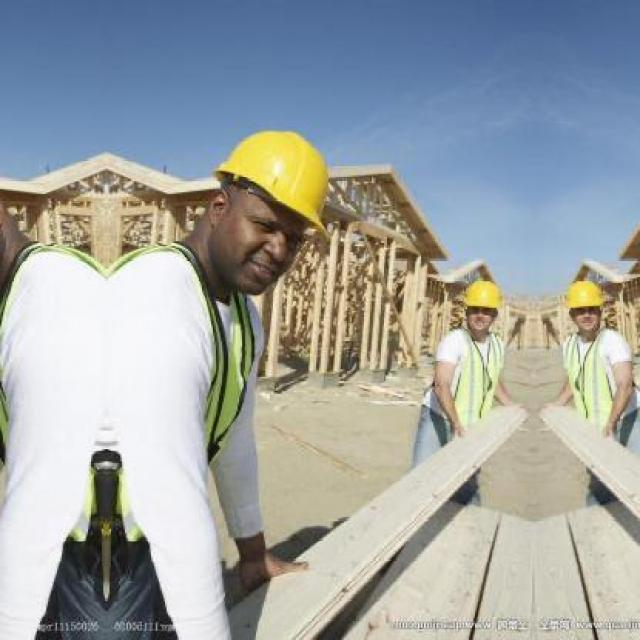Reflective-Jacket: (85, 237, 285, 572), (0, 231, 108, 563), (421, 324, 514, 430), (556, 326, 640, 437), (72, 446, 150, 554)
Safety-Helmet: (199, 122, 352, 245), (454, 272, 514, 320), (557, 274, 612, 320)
